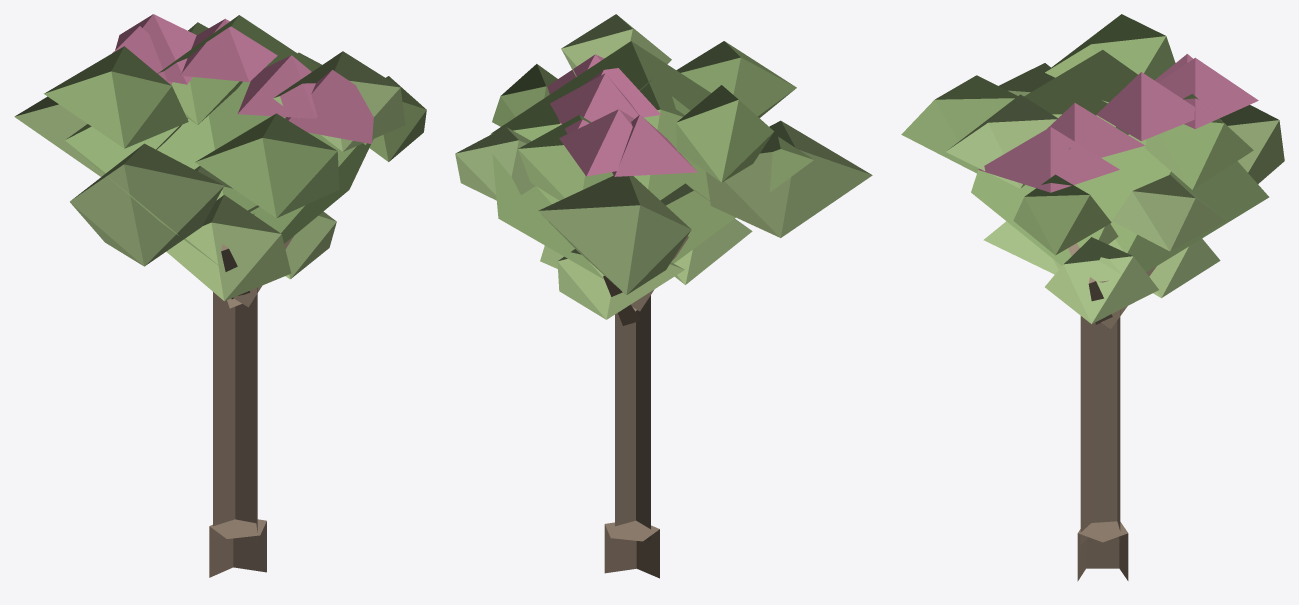
Rendered from tree.sub.paulownia__spring.glb.
3 renders of one model, left to right at view 1: azimuth 30°, elevation 25°; view 2: azimuth 150°, elevation 25°; view 3: azimuth 270°, elevation 25°, orthographic. The views are drawn at different scales.
Parts seen in each view (by area): view 1: tree.sub.paulownia__spring; view 2: tree.sub.paulownia__spring; view 3: tree.sub.paulownia__spring.
Part boxes in pixels (x1,y1,x2,y2): tree.sub.paulownia__spring: [14, 14, 426, 577]; tree.sub.paulownia__spring: [455, 14, 872, 578]; tree.sub.paulownia__spring: [901, 14, 1284, 581].
Size of the model in its own units: 10.93 by 16.56 by 10.89.
